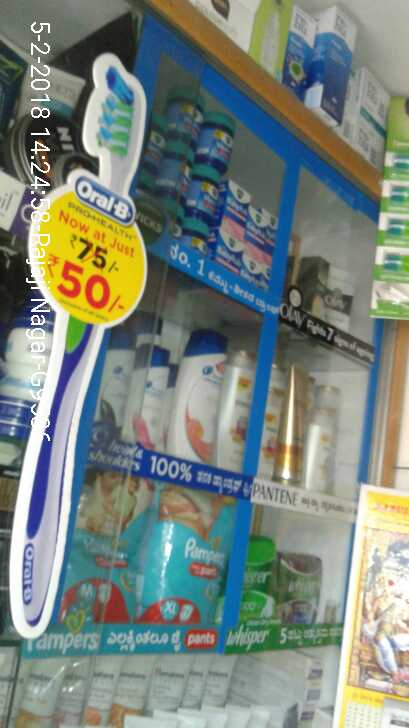beauty: (172, 327, 220, 463), (270, 372, 312, 481), (308, 367, 342, 501), (132, 346, 173, 446), (221, 355, 251, 474), (324, 281, 354, 326)
pharmacy: (58, 479, 149, 626), (140, 483, 233, 622), (264, 547, 326, 627), (173, 72, 217, 138), (196, 115, 247, 171), (188, 167, 223, 224), (224, 182, 254, 233), (160, 132, 189, 184), (246, 204, 275, 245), (243, 242, 272, 283), (216, 231, 240, 267)
